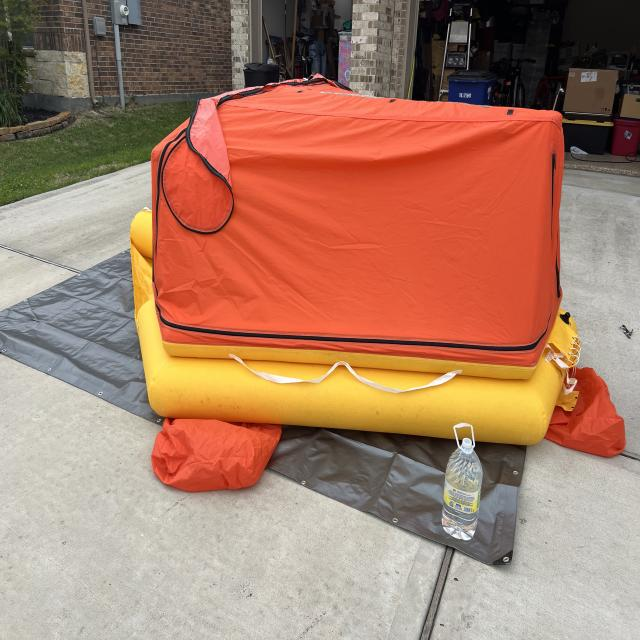Multi-person_life_raft: (131, 73, 627, 492)
